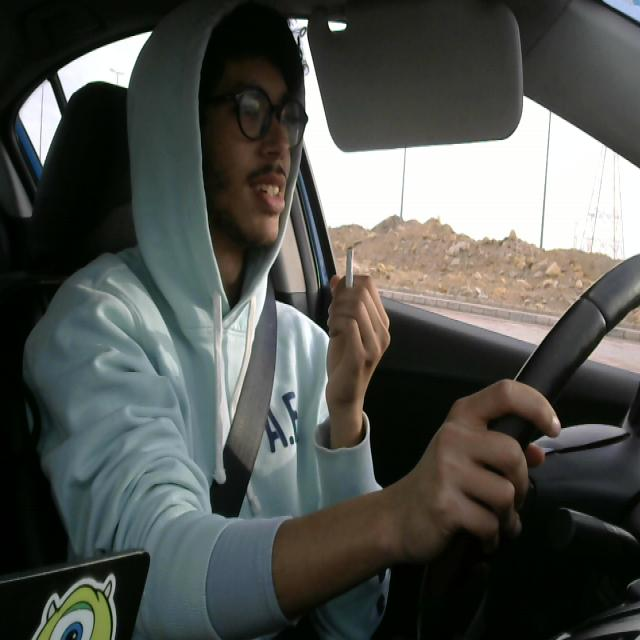smoking: (340, 244, 358, 311)
